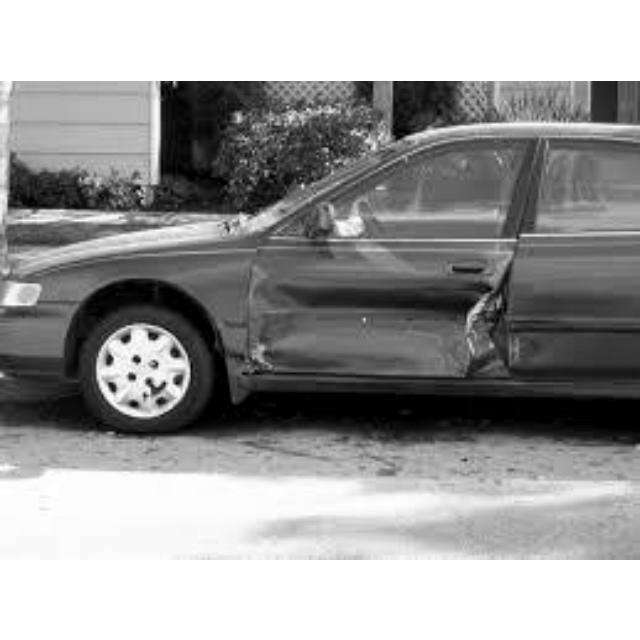doorouter-dent: (252, 226, 506, 389)
